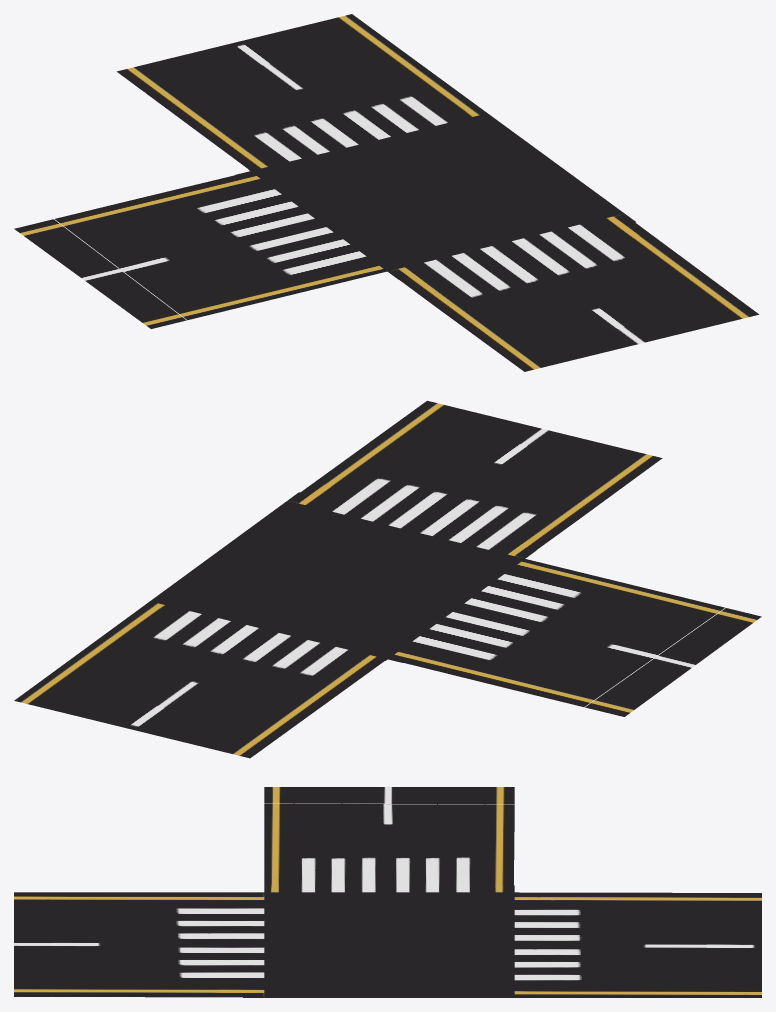
The model's file is nga ba.fbx.
The picture shows the model from 3 angles, top to bottom: view 1: azimuth 30°, elevation 25°; view 2: azimuth 150°, elevation 25°; view 3: azimuth 270°, elevation 25°; orthographic projection. The views are drawn at different scales.
Visible parts, largest first — view 1: Plane; view 2: Plane; view 3: Plane.
Boxes of the visible parts, x1,y1,x2,y2 form: Plane: (14, 14, 758, 371); Plane: (14, 400, 761, 758); Plane: (14, 787, 761, 997).
Bounding box in the file's own units: 399 × 9.74e-05 × 598.
